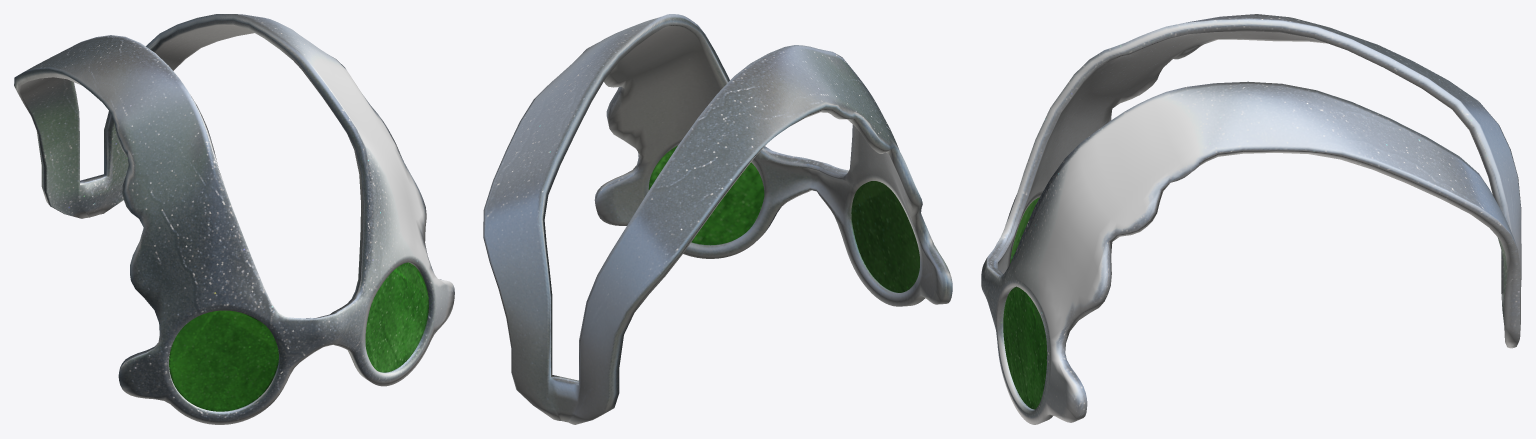
The model's file is SM_futureGoggles_00.fbx.
The picture shows the model from 3 angles, left to right: view 1: azimuth 30°, elevation 25°; view 2: azimuth 150°, elevation 25°; view 3: azimuth 270°, elevation 25°; orthographic projection. The views are drawn at different scales.
Parts seen in each view (by area): view 1: SM_futureGoggles_00; view 2: SM_futureGoggles_00; view 3: SM_futureGoggles_00.
Part boxes in pixels (box(x1,y1,x2,y2)): SM_futureGoggles_00: box(14, 14, 454, 424); SM_futureGoggles_00: box(483, 14, 952, 424); SM_futureGoggles_00: box(981, 14, 1521, 424).
Bounding box in the file's own units: 29.58 × 24.37 × 37.01.
